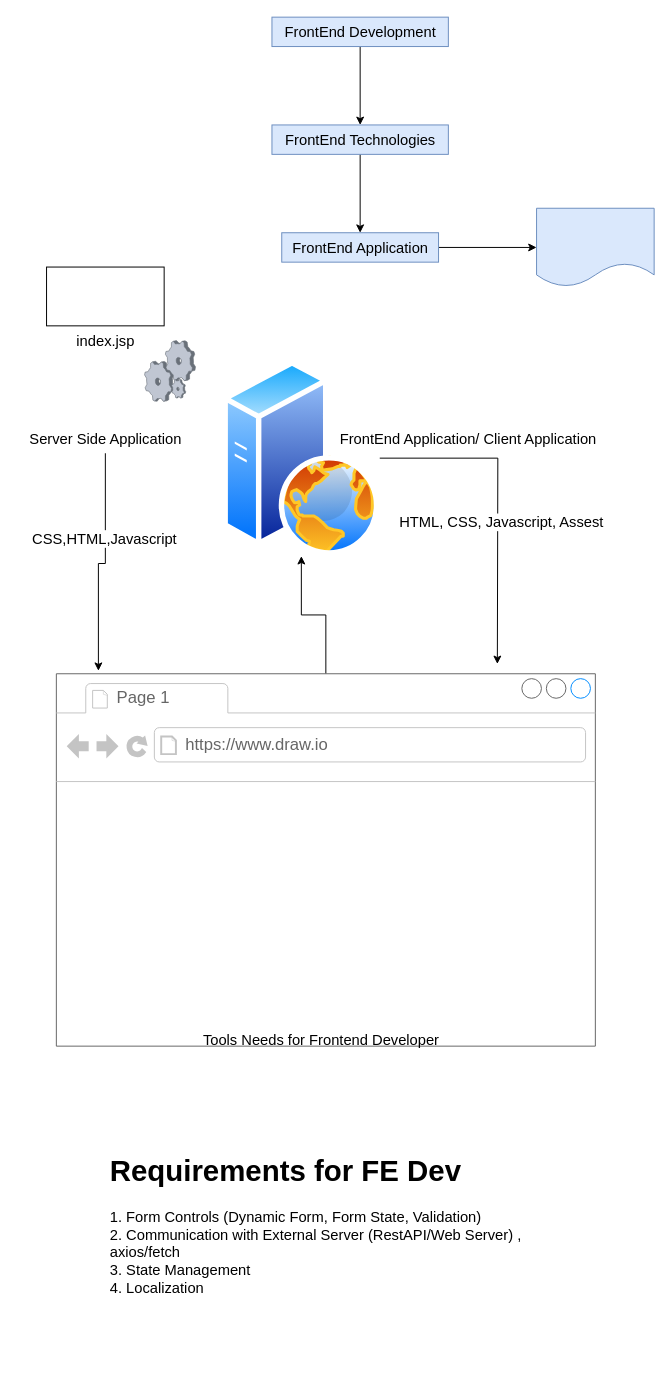
Some shapes in this 671 by 1397 pixel diagram are drawn without their labels. The shapes that lost their labels are listed below. From the top down, each one's box as (x1, y1, x2, y2) in pixels, then its label:
(536, 207, 654, 287): consume client device resources
(46, 266, 164, 326): Container (Tomcat/JBoss/IIS)
